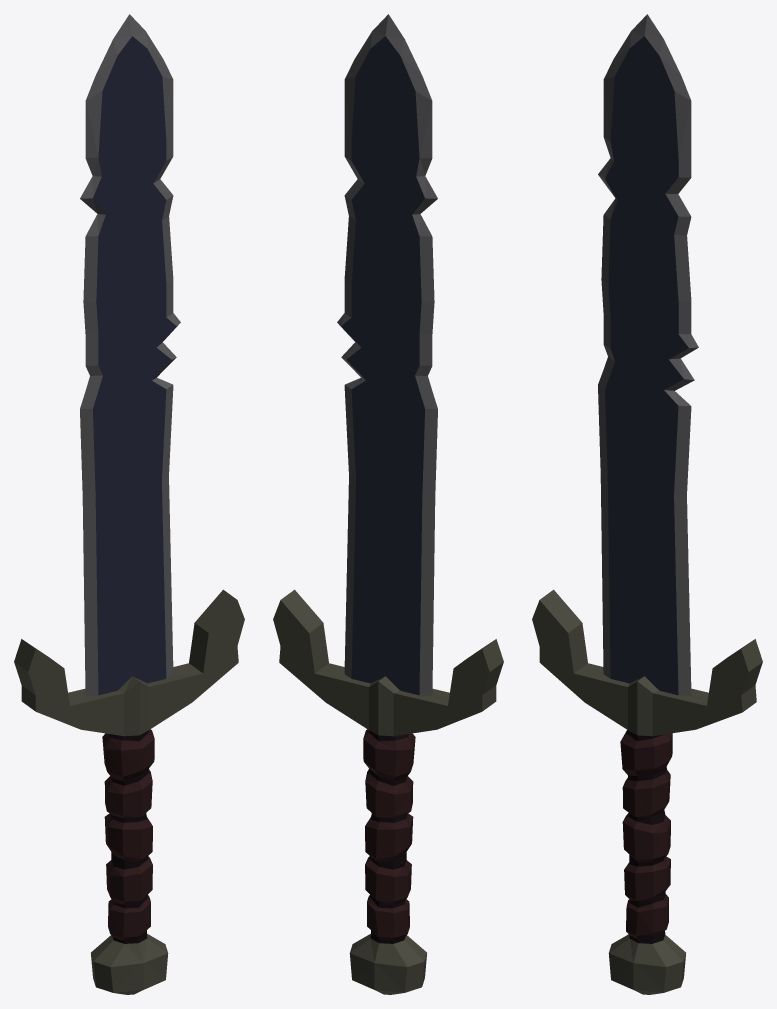
File: Sword.obj
3 views of the same model, side by side, from view 1: azimuth 30°, elevation 25°; view 2: azimuth 150°, elevation 25°; view 3: azimuth 330°, elevation 25° (orthographic).
Parts seen in each view (by area): view 1: Sword; view 2: Sword; view 3: Sword.
Boxes of the visible parts, left/top/right/bottom form: Sword: left=14, top=14, right=244, bottom=994; Sword: left=273, top=14, right=503, bottom=994; Sword: left=532, top=14, right=762, bottom=994.
Size of the model in its own units: 0.5344 by 2.3 by 0.1221.
